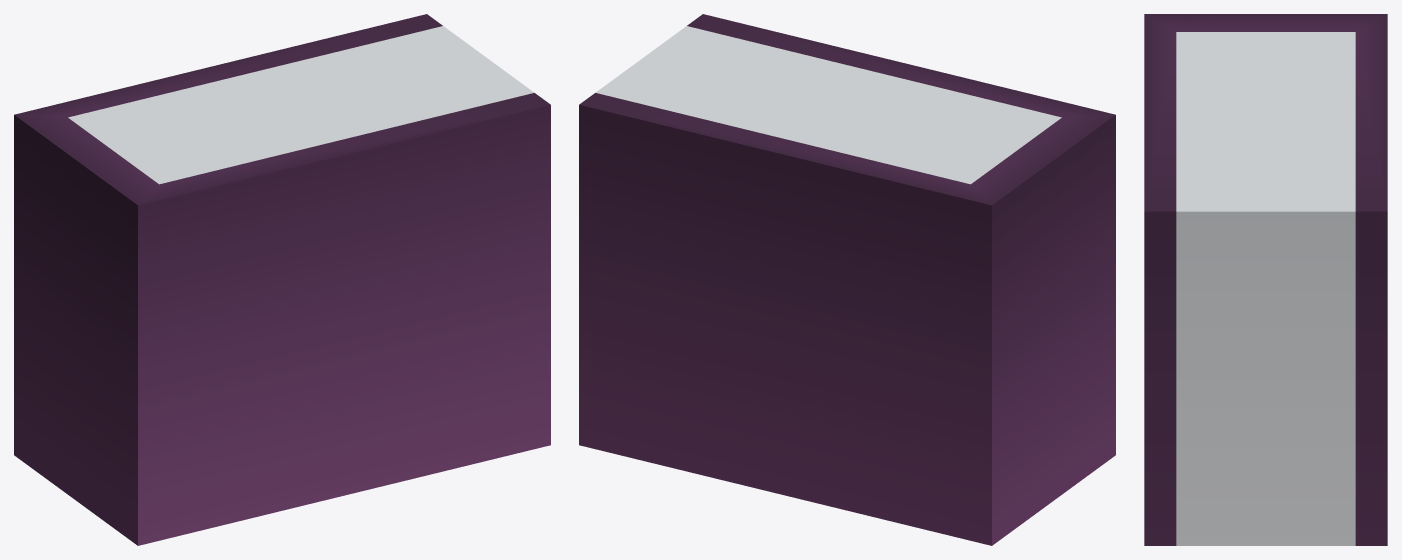
The model's file is Book 02.FBX.
3 renders of one model, left to right at view 1: azimuth 30°, elevation 25°; view 2: azimuth 150°, elevation 25°; view 3: azimuth 270°, elevation 25°, orthographic.
Parts seen in each view (by area): view 1: Book 02; view 2: Book 02; view 3: Book 02.
Boxes of the visible parts, box(x1,y1,x2,y2) form: Book 02: box(14, 14, 550, 545); Book 02: box(579, 14, 1115, 545); Book 02: box(1144, 14, 1387, 545).
Bounding box in the file's own units: 22.57 × 17.78 × 11.74.
